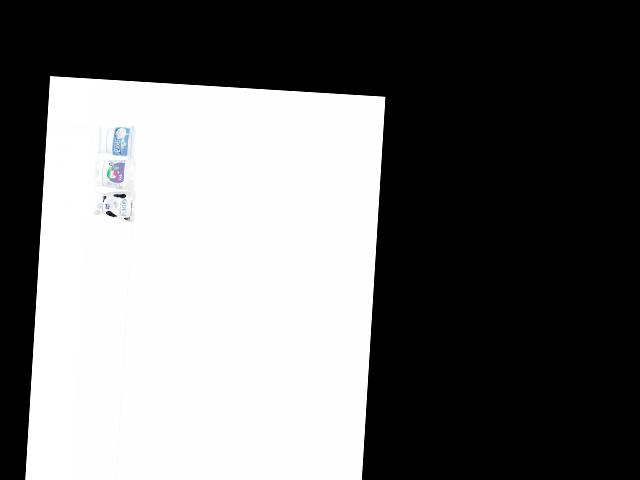cotage: (101, 123, 139, 159)
